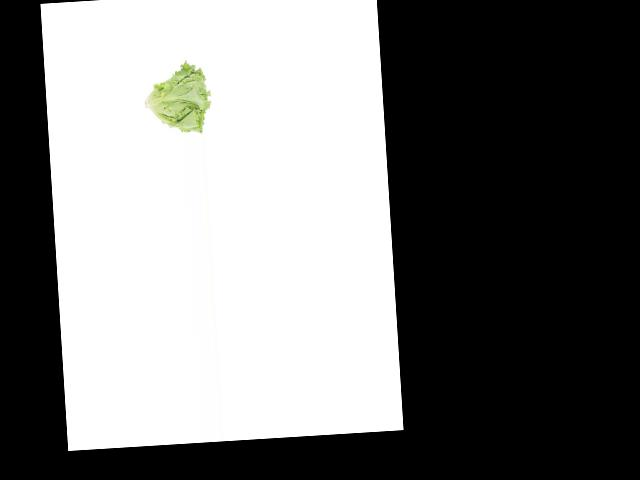lettuce: (140, 62, 216, 138)
